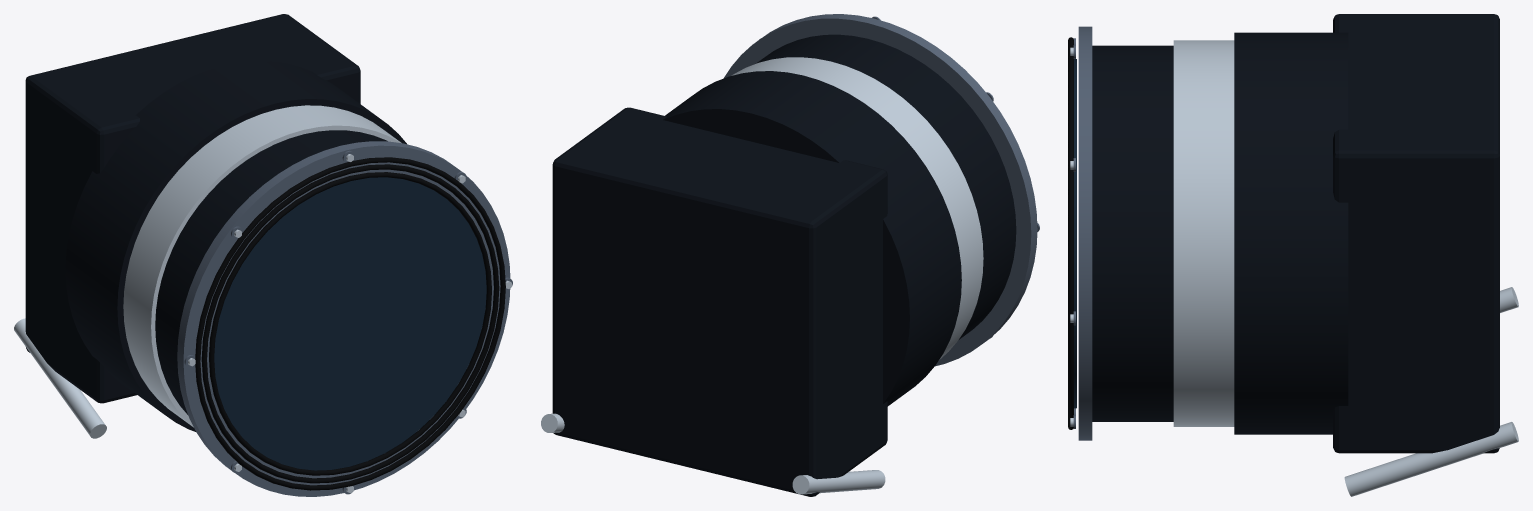
Rendered from Component_optical_payload.glb.
The picture shows the model from 3 angles, left to right: view 1: azimuth 30°, elevation 25°; view 2: azimuth 150°, elevation 25°; view 3: azimuth 270°, elevation 25°; orthographic projection. The views are drawn at different scales.
Visible parts, largest first — view 1: Optical_glass, Payload_detector, Optical_barrel, Optical_barrel.003, Optical_barrel.001, Optical_barrel.002, Aperture_baffle.002, Aperture_baffle.001, Aperture_baffle, Payload_bonded_strut; view 2: Payload_detector, Optical_barrel, Optical_barrel.002, Optical_barrel.003, Optical_barrel.001, Payload_bonded_strut; view 3: Payload_detector, Optical_barrel, Optical_barrel.002, Optical_barrel.001, Optical_barrel.003, Payload_bonded_strut.001, Aperture_baffle.002, Optical_glass.
Boxes of the visible parts, <box> form: Optical_glass: <box>214,177,486,470</box>; Payload_detector: <box>25,14,360,403</box>; Optical_barrel: <box>65,61,406,431</box>; Optical_barrel.003: <box>177,141,510,496</box>; Optical_barrel.001: <box>123,105,401,427</box>; Optical_barrel.002: <box>155,130,387,414</box>; Aperture_baffle.002: <box>195,157,505,490</box>; Aperture_baffle.001: <box>201,164,499,483</box>; Aperture_baffle: <box>209,172,491,475</box>; Payload_bonded_strut: <box>14,318,106,438</box>; Payload_detector: <box>552,107,887,496</box>; Optical_barrel: <box>663,71,961,406</box>; Optical_barrel.002: <box>756,34,1016,339</box>; Optical_barrel.003: <box>724,14,1037,366</box>; Optical_barrel.001: <box>731,57,983,359</box>; Payload_bonded_strut: <box>792,470,885,494</box>; Payload_detector: <box>1333,14,1499,453</box>; Optical_barrel: <box>1234,32,1348,434</box>; Optical_barrel.002: <box>1092,45,1173,421</box>; Optical_barrel.001: <box>1173,40,1234,426</box>; Optical_barrel.003: <box>1078,26,1092,440</box>; Payload_bonded_strut.001: <box>1344,422,1518,496</box>; Aperture_baffle.002: <box>1068,37,1073,429</box>; Optical_glass: <box>1074,59,1076,408</box>.
Bounding box in the file's own units: 0.5466 × 0.5565 × 0.5938.
